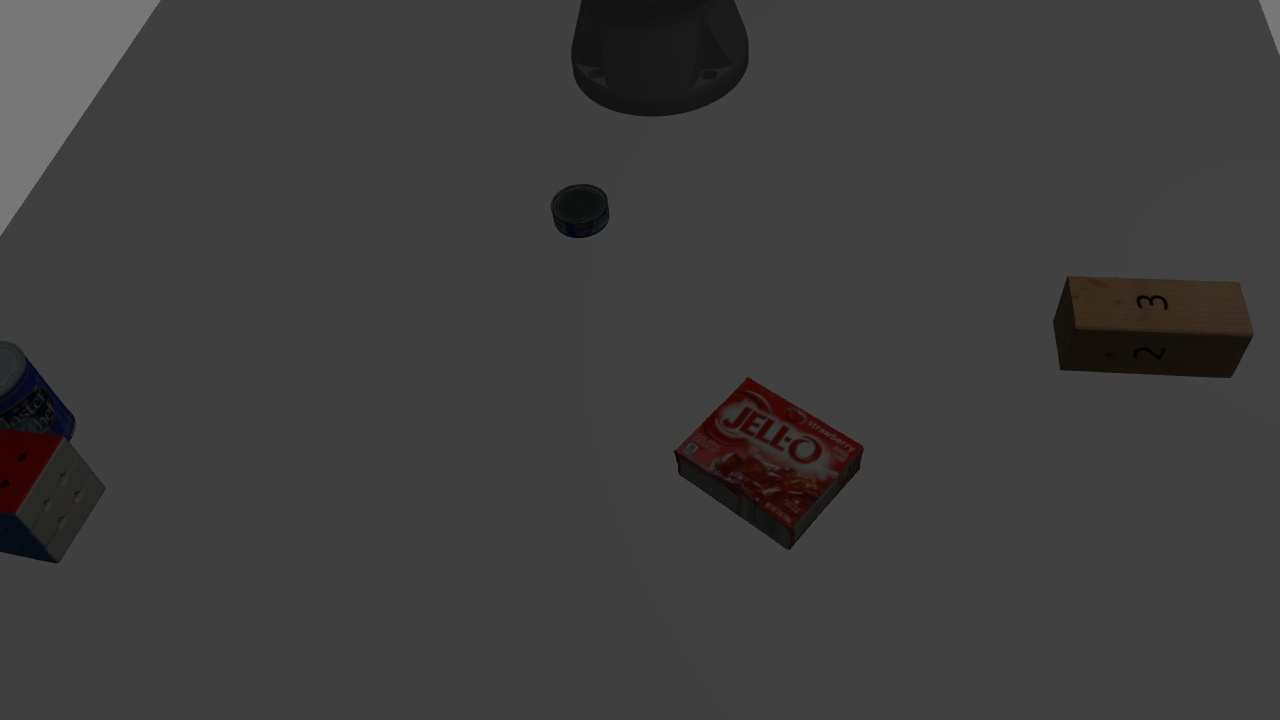gelatin_box: (666, 367, 870, 546)
rubiks_cube: (3, 424, 124, 568)
tuna_fish_can: (544, 178, 618, 239)
wood_block: (1048, 270, 1257, 396)
